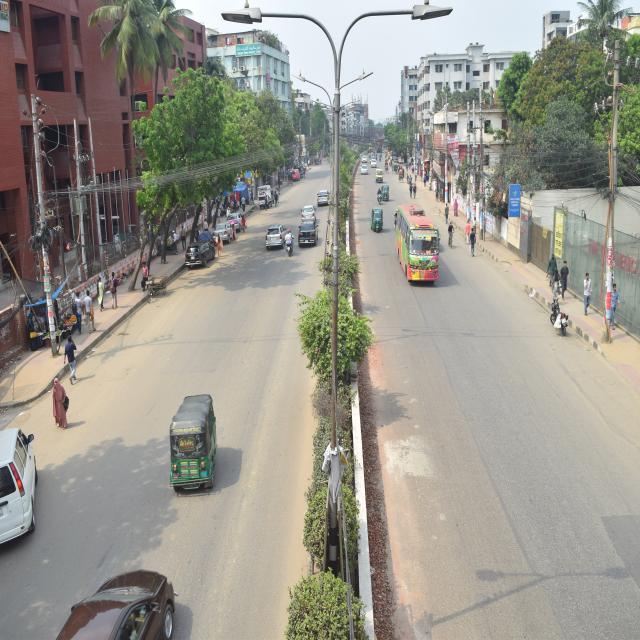bus: (391, 212, 450, 298)
car: (181, 233, 218, 275), (261, 220, 284, 253), (298, 197, 325, 220), (297, 227, 320, 250), (213, 218, 233, 242), (317, 187, 334, 210), (376, 163, 386, 185), (358, 161, 370, 175), (228, 218, 242, 225)
motorbike: (548, 294, 580, 362), (279, 223, 290, 271)
